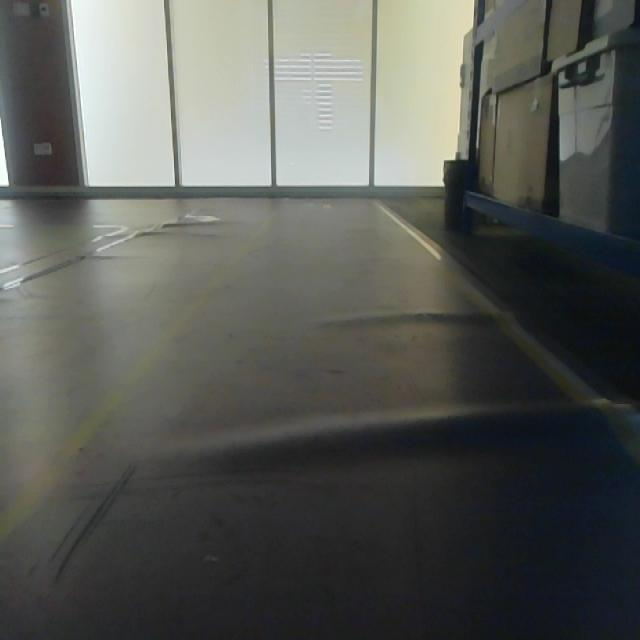left_lane: (0, 210, 276, 547)
right_lane: (378, 203, 640, 470)
